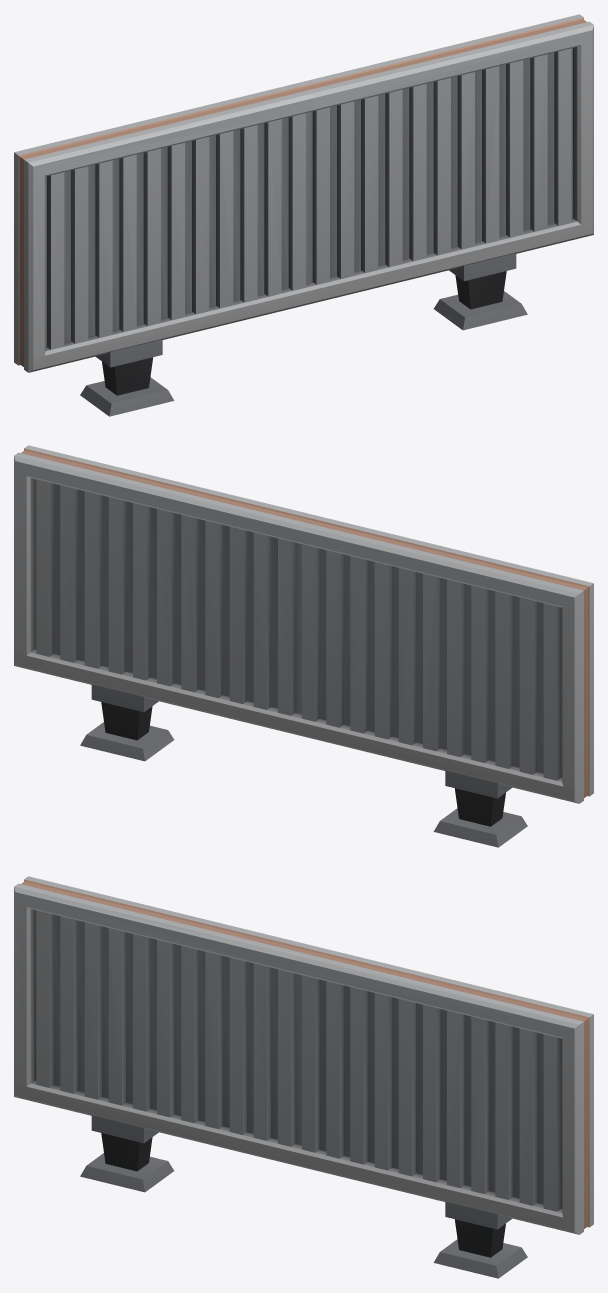
File: radiator.glb
3 renders of one model, top to bottom at view 1: azimuth 30°, elevation 25°; view 2: azimuth 150°, elevation 25°; view 3: azimuth 330°, elevation 25°, orthographic.
Visible parts, largest first — view 1: radiator; view 2: radiator; view 3: radiator.
Part boxes in pixels (box(x1,y1,x2,y2)): radiator: box(14, 14, 593, 416); radiator: box(14, 445, 593, 847); radiator: box(14, 876, 593, 1278).
Size of the model in its own units: 4 by 1.8 by 0.36.
